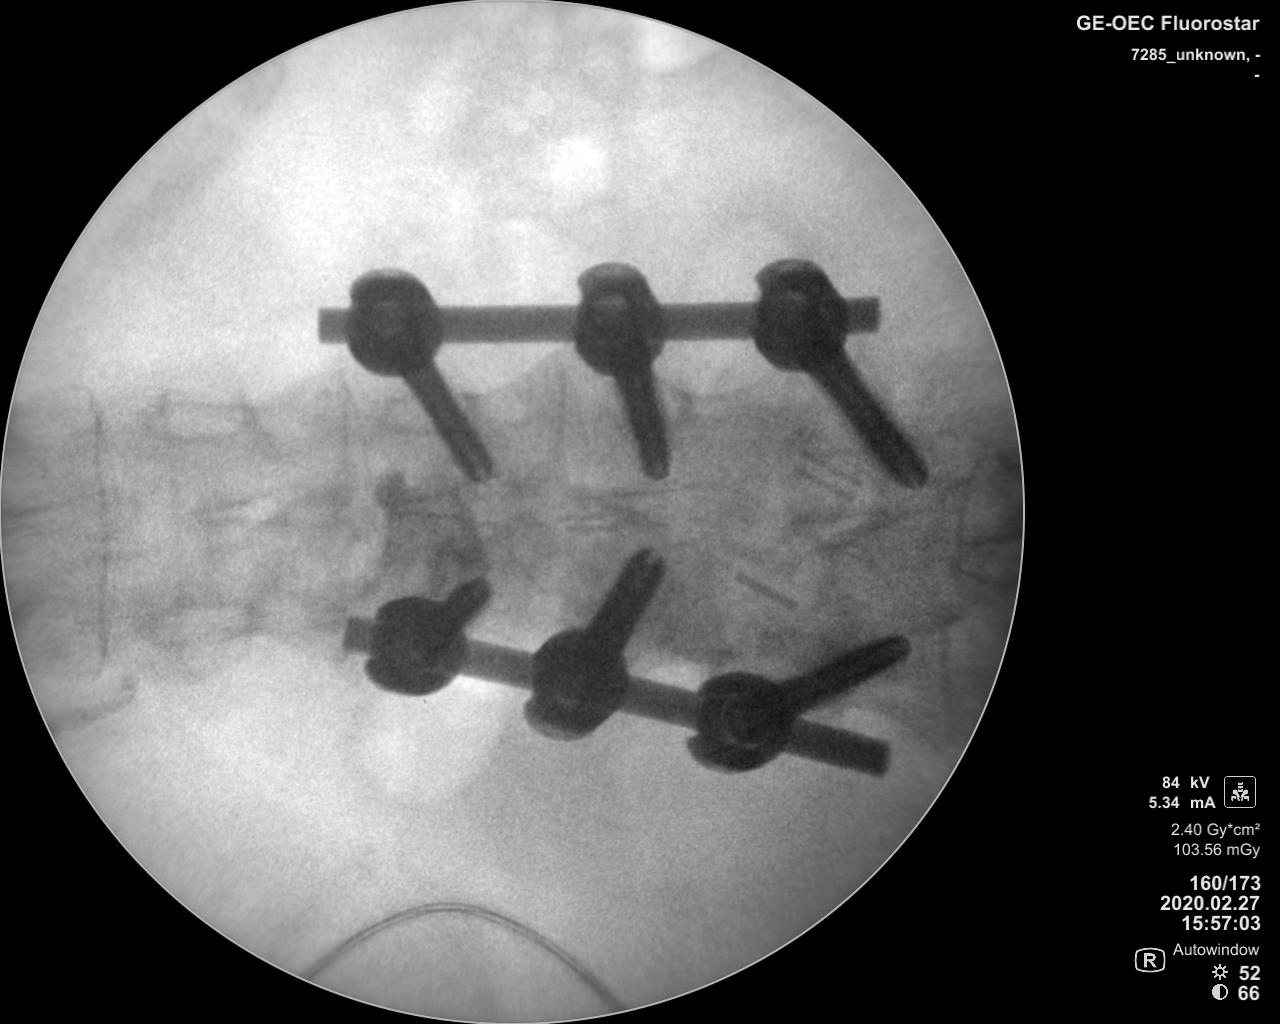eyes: (137, 599, 252, 646), (380, 389, 469, 436), (154, 399, 247, 442)
line: (936, 447, 986, 739), (84, 387, 113, 675), (329, 364, 355, 616)
nose: (174, 481, 346, 533), (571, 478, 730, 533), (377, 475, 530, 529), (7, 488, 140, 545)
